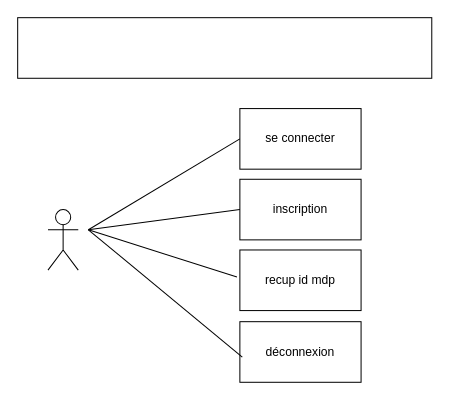
The diagram is 449 pixels wide and 400 high, and some of its shapes have lost their labels. Each missing label, with the centre of its shape:
CONNEXION: the point at 224,47
joueur: the point at 62,239
